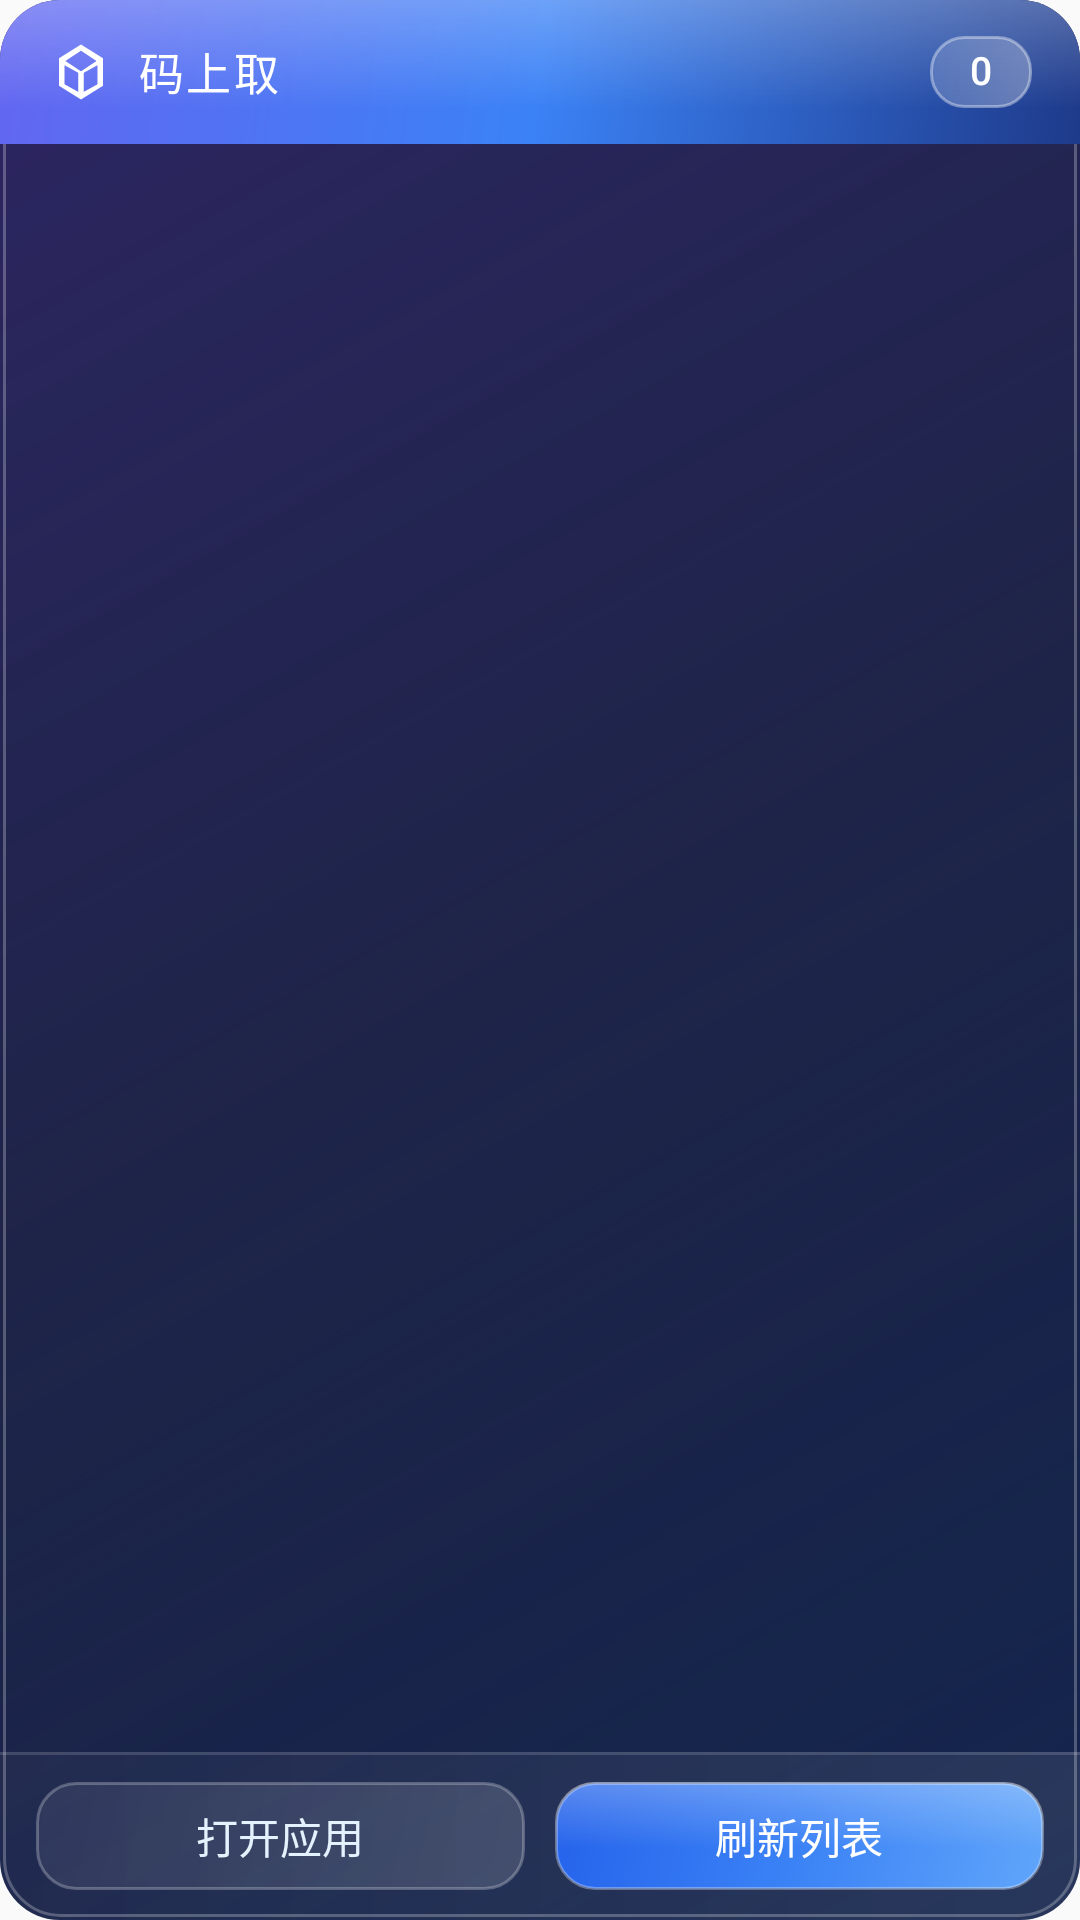

Icon bounding boxes for this 1080*1920 phone screenshot, format (x1, y1, x2, y2):
package: (48, 39, 114, 100)
